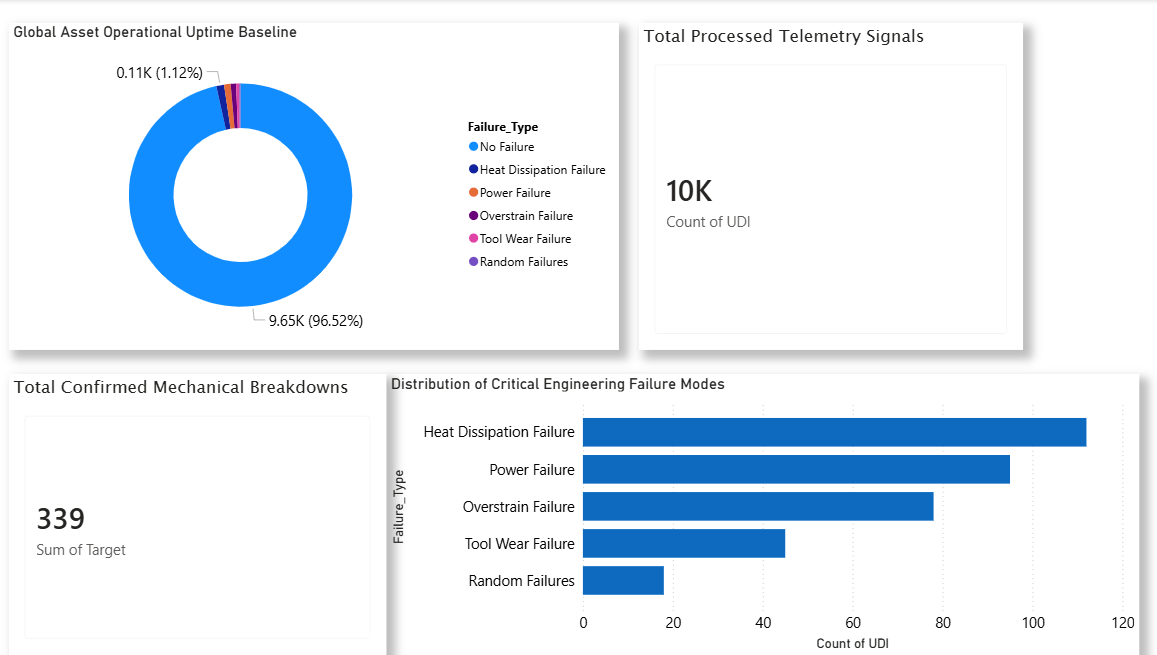

The page's visual inventory and layout, read from the dashboard file:
{"tool":"powerbi","page":{"name":"Operational Factory Control Center","canvas":[1280,720],"ordinal":0},"visuals":[{"type":"donutChart","title":"Global Asset Operational Uptime Baseline","fields":{"Category":["fact_sensor_logs.Failure_Type"],"Y":["CountNonNull(fact_sensor_logs.UDI)"]},"box":[11,52.1,669.6,359.5],"z":0},{"type":"clusteredBarChart","title":"Distribution of Critical Engineering Failure Modes","fields":{"Category":["fact_sensor_logs.Failure_Type"],"Y":["CountNonNull(fact_sensor_logs.UDI)"]},"box":[425.4,411.7,826.1,308.7],"z":1000},{"type":"cardVisual","title":"Total Processed Telemetry Signals","fields":{"Data":["CountNonNull(fact_sensor_logs.UDI)"]},"box":[691.6,52.1,396.6,307.4],"z":2000},{"type":"cardVisual","title":"Total Confirmed Mechanical Breakdowns","fields":{"Data":["Sum(fact_sensor_logs.Target)"]},"box":[11,411.7,414.4,308.7],"z":3000}]}

Visuals, with their boxes in screenshot pixels (x1, y1, x2, y2), scaled from the page's 1280x720 canvas onto the 1157x655 screenshot:
"Global Asset Operational Uptime Baseline" donutChart: (10,47,615,374)
"Distribution of Critical Engineering Failure Modes" clusteredBarChart: (385,375,1131,654)
"Total Processed Telemetry Signals" cardVisual: (625,47,984,327)
"Total Confirmed Mechanical Breakdowns" cardVisual: (10,375,385,654)
